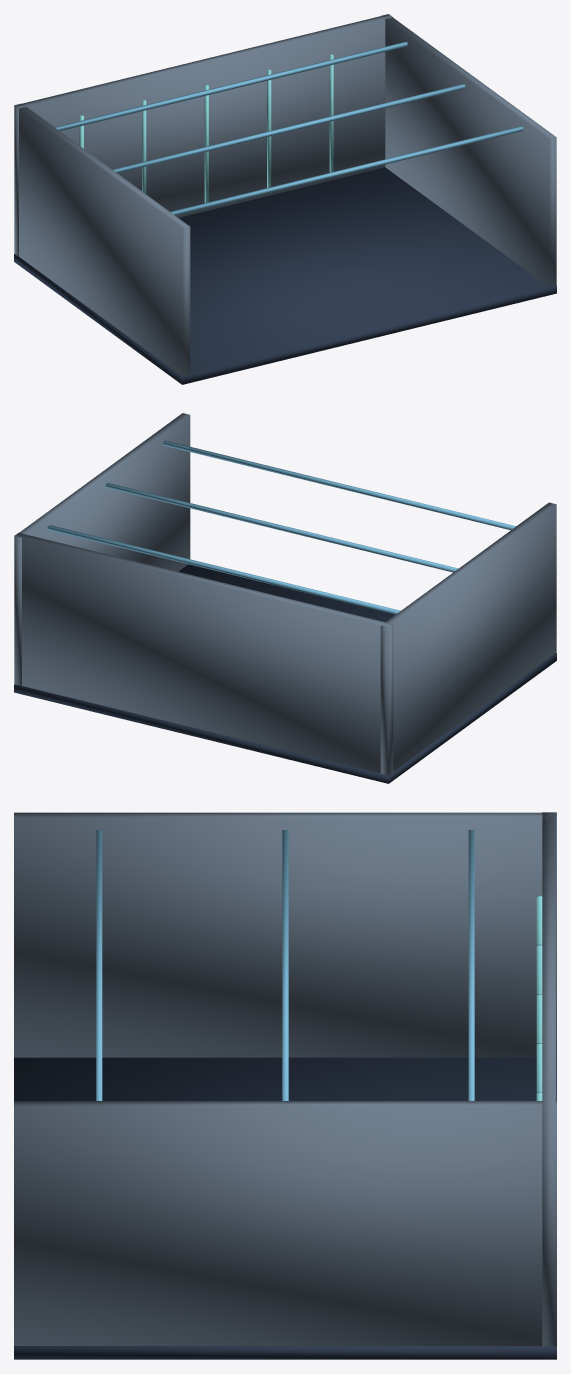
File: ground-room-shell-v1.gltf
The picture shows the model from 3 angles, top to bottom: view 1: azimuth 30°, elevation 25°; view 2: azimuth 150°, elevation 25°; view 3: azimuth 270°, elevation 25°; orthographic projection. The views are drawn at different scales.
Parts seen in each view (by area): view 1: ground-room-shell-v1-00, ground-room-shell-v1-01, ground-room-shell-v1-02, ground-room-shell-v1-03, ground-room-shell-v1-10, ground-room-shell-v1-11, ground-room-shell-v1-09, ground-room-shell-v1-06, ground-room-shell-v1-07, ground-room-shell-v1-08; view 2: ground-room-shell-v1-01, ground-room-shell-v1-02, ground-room-shell-v1-03, ground-room-shell-v1-00, ground-room-shell-v1-09, ground-room-shell-v1-10, ground-room-shell-v1-11; view 3: ground-room-shell-v1-03, ground-room-shell-v1-02, ground-room-shell-v1-00, ground-room-shell-v1-01, ground-room-shell-v1-09, ground-room-shell-v1-10, ground-room-shell-v1-11.
Boxes of the visible parts, bbox=[...] form: ground-room-shell-v1-00: bbox=[14, 167, 556, 384]; ground-room-shell-v1-01: bbox=[14, 14, 392, 256]; ground-room-shell-v1-02: bbox=[15, 103, 190, 376]; ground-room-shell-v1-03: bbox=[381, 14, 556, 286]; ground-room-shell-v1-10: bbox=[112, 84, 465, 173]; ground-room-shell-v1-11: bbox=[170, 126, 523, 215]; ground-room-shell-v1-09: bbox=[55, 41, 407, 131]; ground-room-shell-v1-06: bbox=[204, 84, 208, 202]; ground-room-shell-v1-07: bbox=[267, 69, 271, 187]; ground-room-shell-v1-08: bbox=[329, 54, 333, 172]; ground-room-shell-v1-01: bbox=[14, 532, 393, 774]; ground-room-shell-v1-02: bbox=[380, 502, 556, 775]; ground-room-shell-v1-03: bbox=[14, 413, 190, 685]; ground-room-shell-v1-00: bbox=[14, 564, 556, 783]; ground-room-shell-v1-09: bbox=[47, 525, 400, 614]; ground-room-shell-v1-10: bbox=[105, 483, 458, 572]; ground-room-shell-v1-11: bbox=[163, 440, 515, 530]; ground-room-shell-v1-03: bbox=[14, 1101, 556, 1345]; ground-room-shell-v1-02: bbox=[14, 812, 556, 1057]; ground-room-shell-v1-00: bbox=[14, 1057, 556, 1359]; ground-room-shell-v1-01: bbox=[542, 812, 556, 1346]; ground-room-shell-v1-09: bbox=[468, 830, 474, 1100]; ground-room-shell-v1-10: bbox=[282, 830, 288, 1100]; ground-room-shell-v1-11: bbox=[96, 830, 102, 1100].
Size of the model in its own units: 9 by 3.59 by 7.
